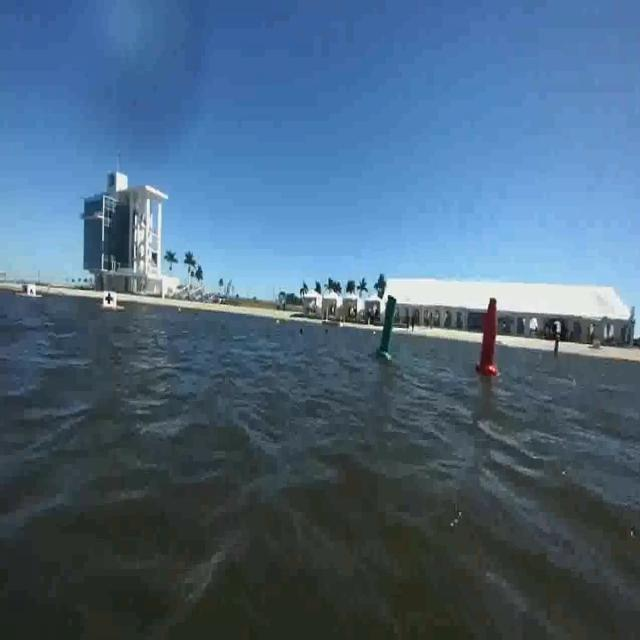green-column-buoy: (376, 295, 401, 361)
red-column-buoy: (476, 296, 502, 378)
